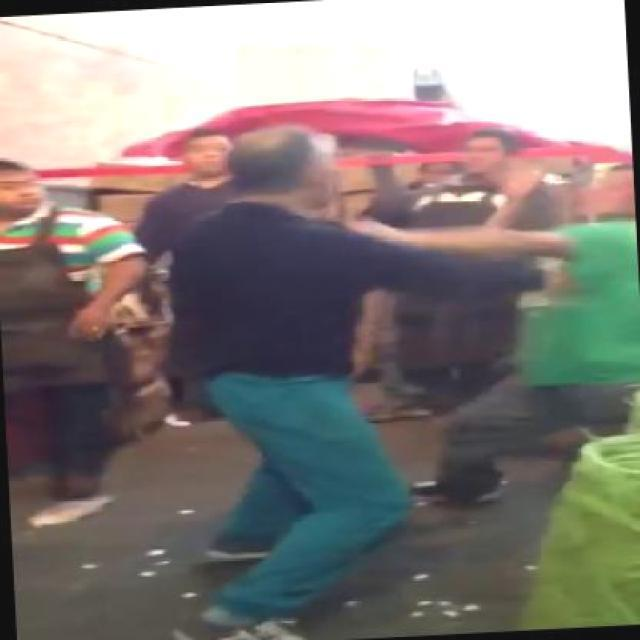fight: (170, 104, 638, 558)
